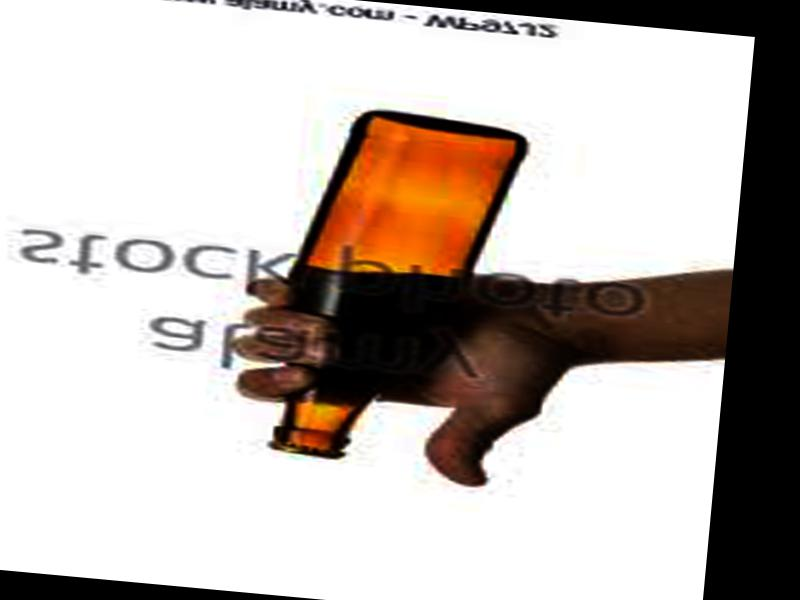Beer: (264, 105, 531, 469)
